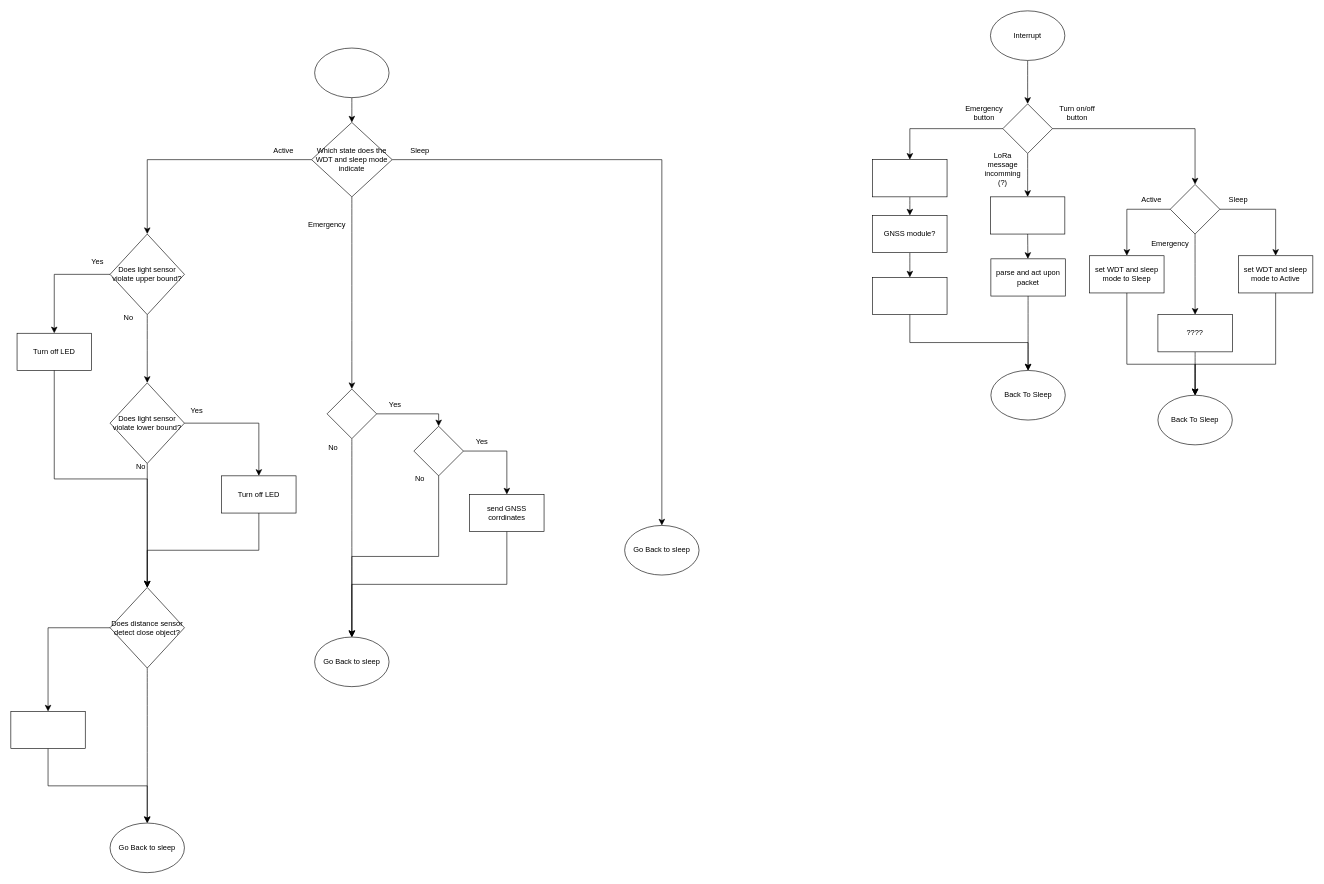
Some shapes in this 1324 by 884 pixel diagram are drawn without their labels. Each missing label, with the centre of its shape:
Can we sent LoRa messages?: the point at 438,451
has GNSS gotten readings?: the point at 351,413
LoRa module?: the point at 909,296
Make a beep sound: the point at 47,730
set wdt and sleepmode and GPIO extender mosfets to Emergency state: the point at 909,178
wait for next echo - or prompt echo - or wait for the second packet: the point at 1027,215
wake up: the point at 351,72
what is the source?: the point at 1027,128
What state does WDT and sleep mode dictate?: the point at 1195,209
